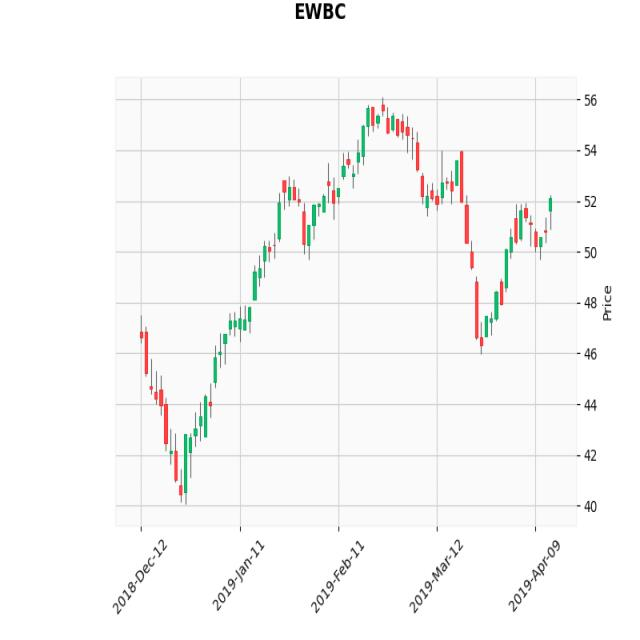Head-Shoulders: (247, 89, 488, 345)
